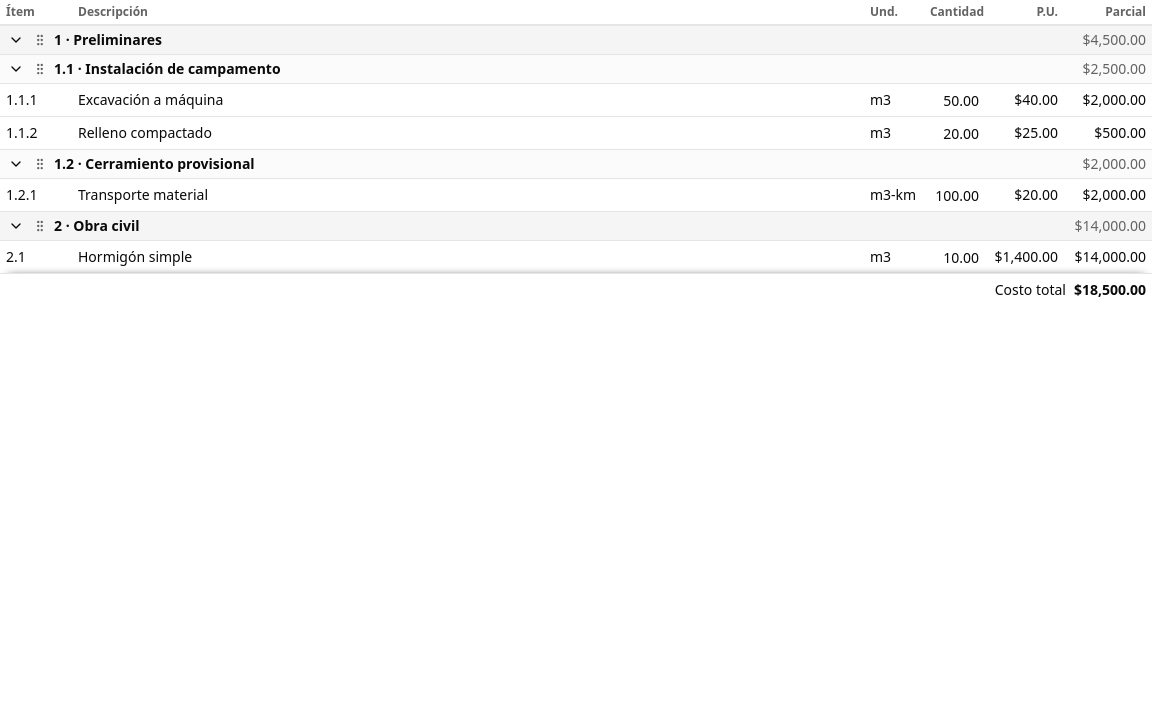
Test: PresupuestoCompacto › ofrece mover capítulos con restricciones y confirma la eliminación
Right-click the row "1 · Preliminares $4,500.00" at point(576, 40), box [0, 26, 1151, 54]
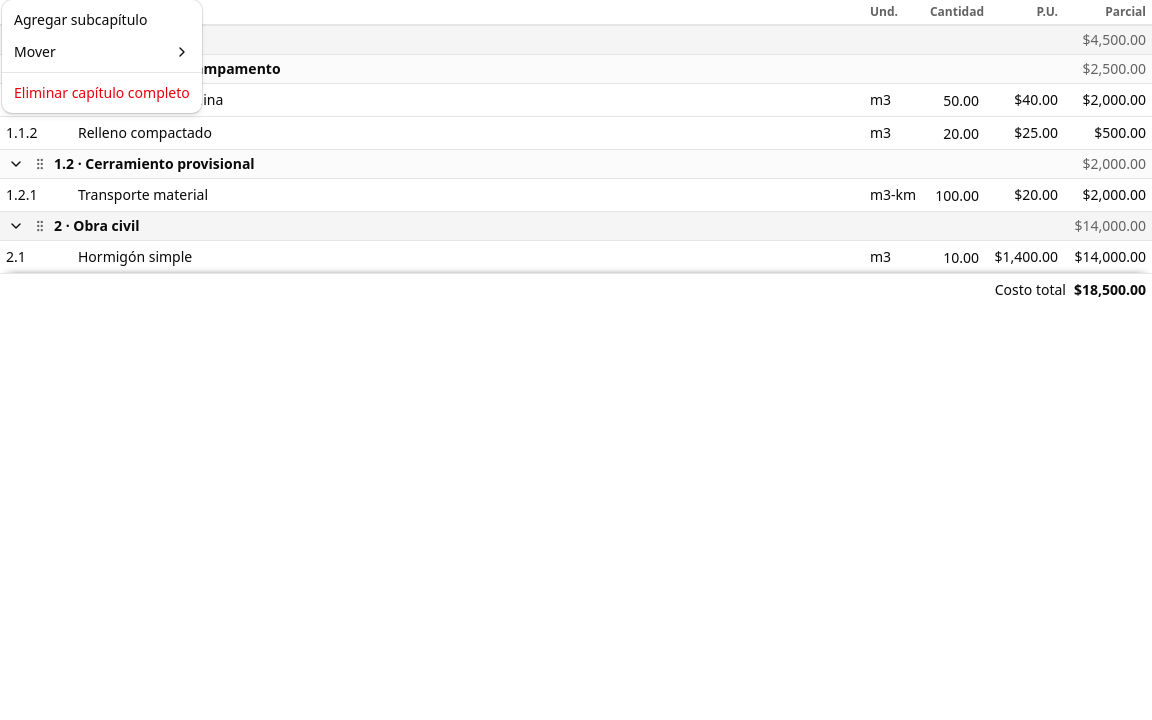
Expected: the menu item "Agregar subcapítulo" is shown, [14, 10, 147, 29]
Hover over the menu item "Mover" at point(35, 52), box [14, 42, 190, 61]
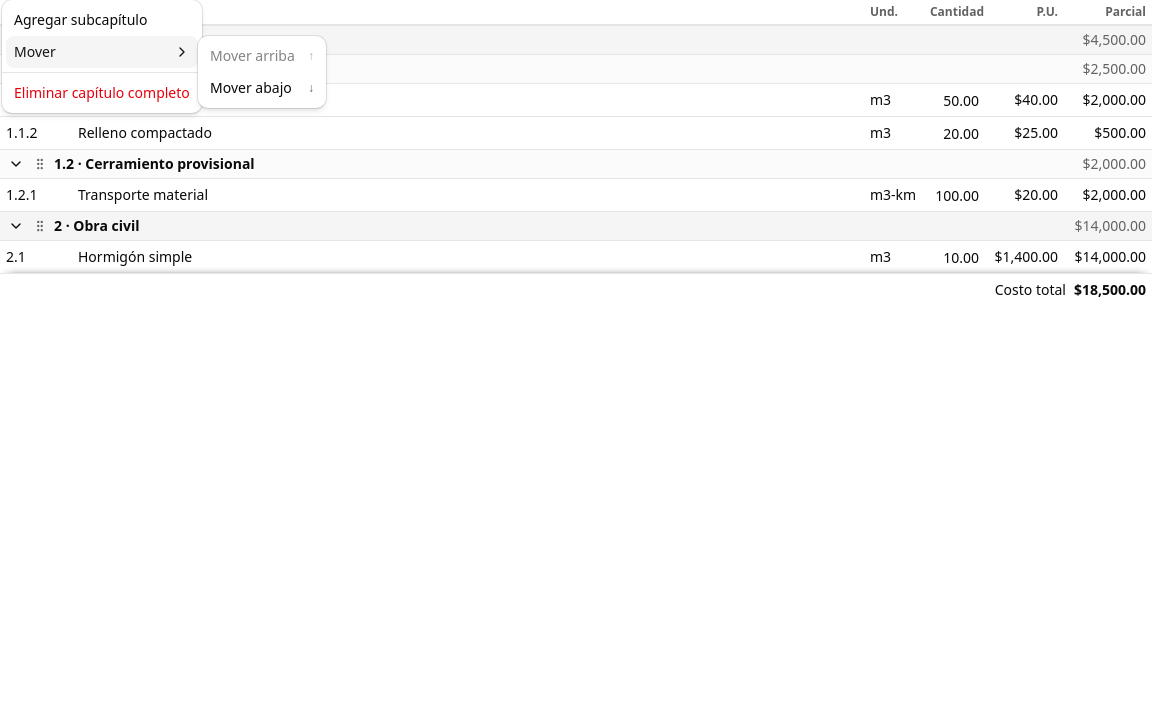
Click the menu item "Eliminar capítulo completo" at point(102, 92), box [14, 83, 190, 102]
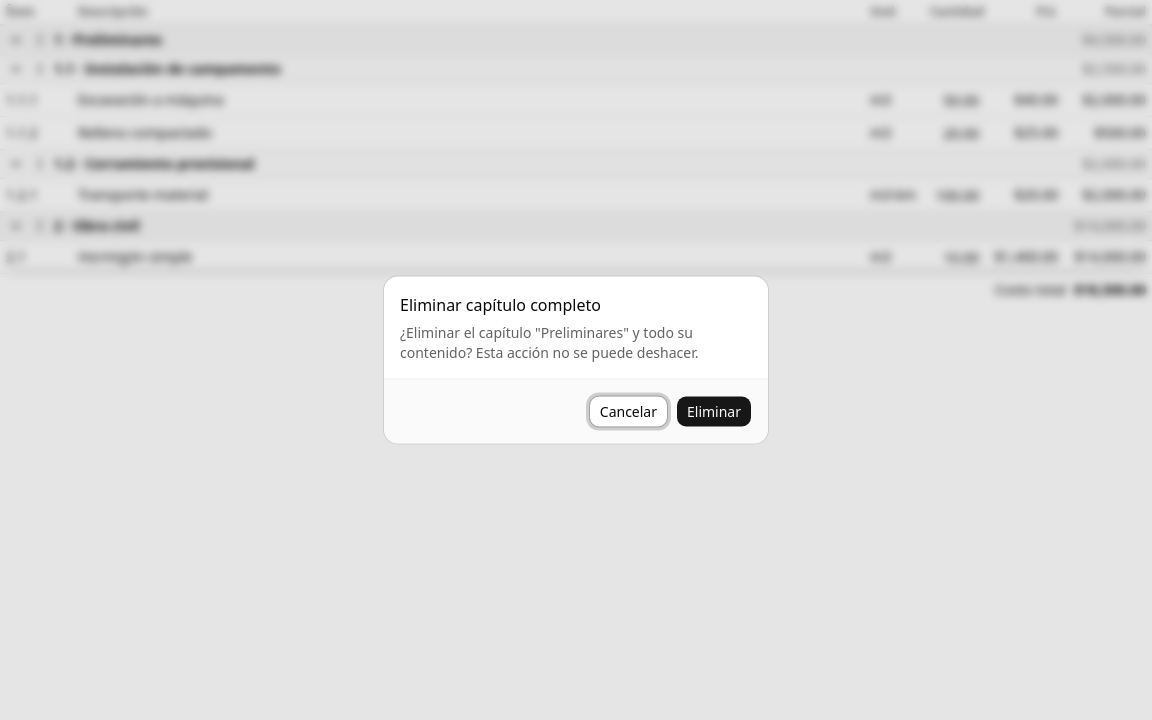
Expected: the dialog shows "todo su contenido", [400, 322, 698, 362]
Expected: the dialog shows "no se puede deshacer", [400, 322, 698, 362]
